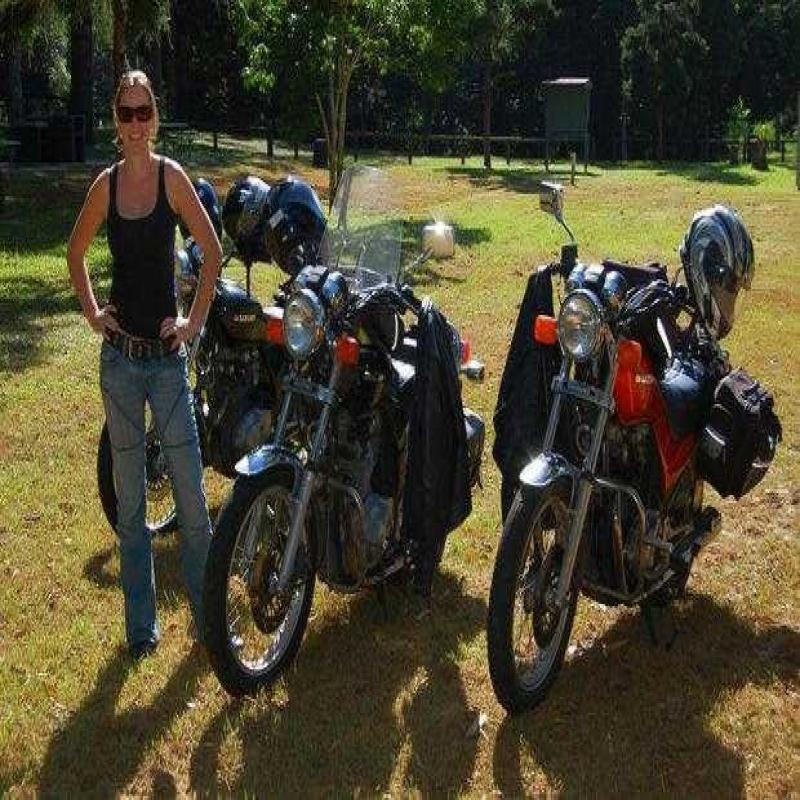bike: (488, 126, 800, 713), (243, 195, 489, 710)
